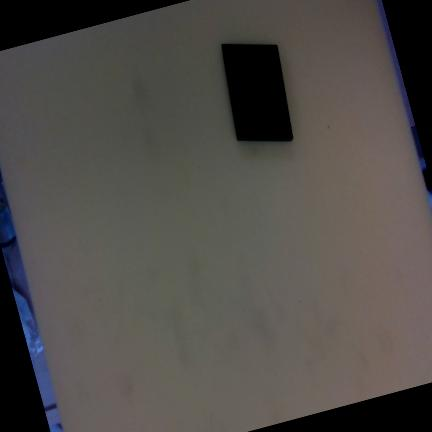tile: (221, 34, 293, 150)
